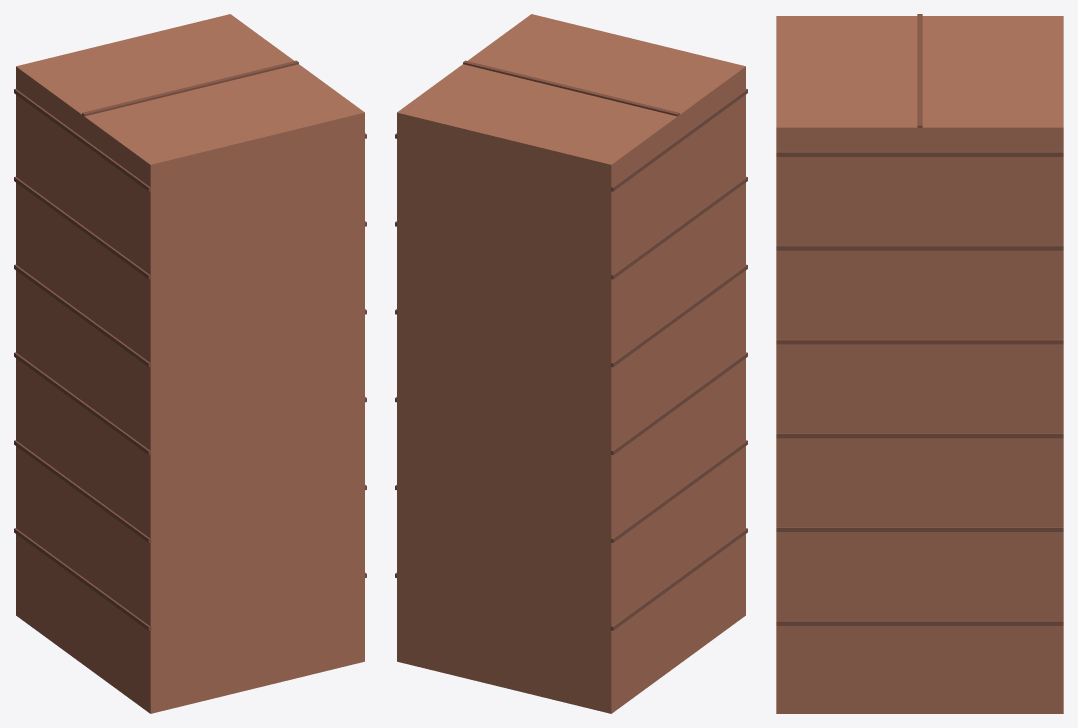
The model's file is terrain-wall-b97a60.glb.
3 renders of one model, left to right at view 1: azimuth 30°, elevation 25°; view 2: azimuth 150°, elevation 25°; view 3: azimuth 270°, elevation 25°, orthographic. The views are drawn at different scales.
Visible parts, largest first — view 1: terrain-wall-b97a60; view 2: terrain-wall-b97a60; view 3: terrain-wall-b97a60.
Part boxes in pixels (x1,y1,x2,y2): terrain-wall-b97a60: (14, 14, 366, 713); terrain-wall-b97a60: (395, 14, 747, 713); terrain-wall-b97a60: (776, 14, 1063, 713).
Bounding box in the file's own units: 0.936 × 2.26 × 1.
